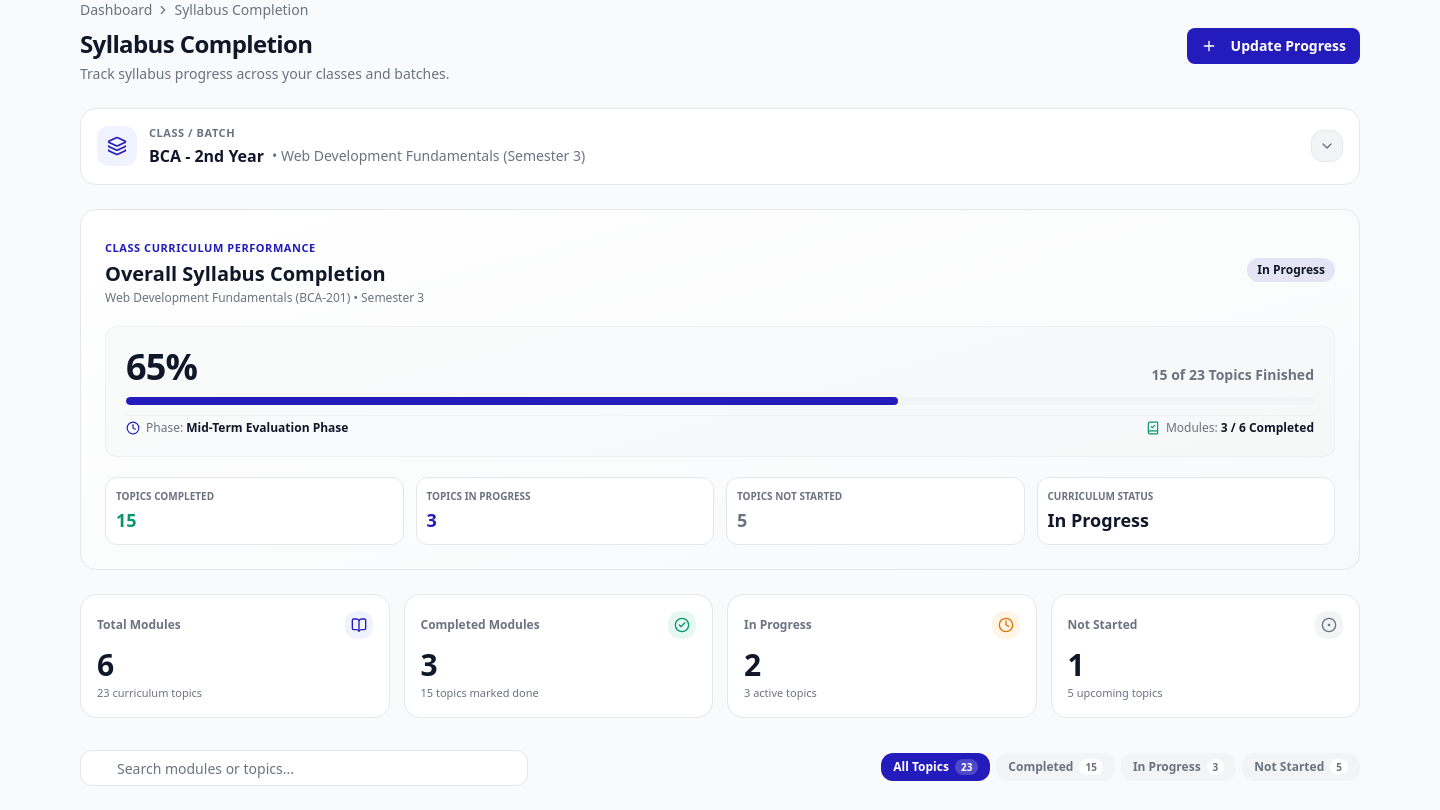
Test case: SyllabusCompletionPage › opens Update Progress modal when clicking the action button
The width and height of the screenshot is (1440, 810).
What coordinates should you click on to do the following:
click the button "Update Progress"
I would click on:
 (1273, 46)
Its box is [1187,28,1360,64].
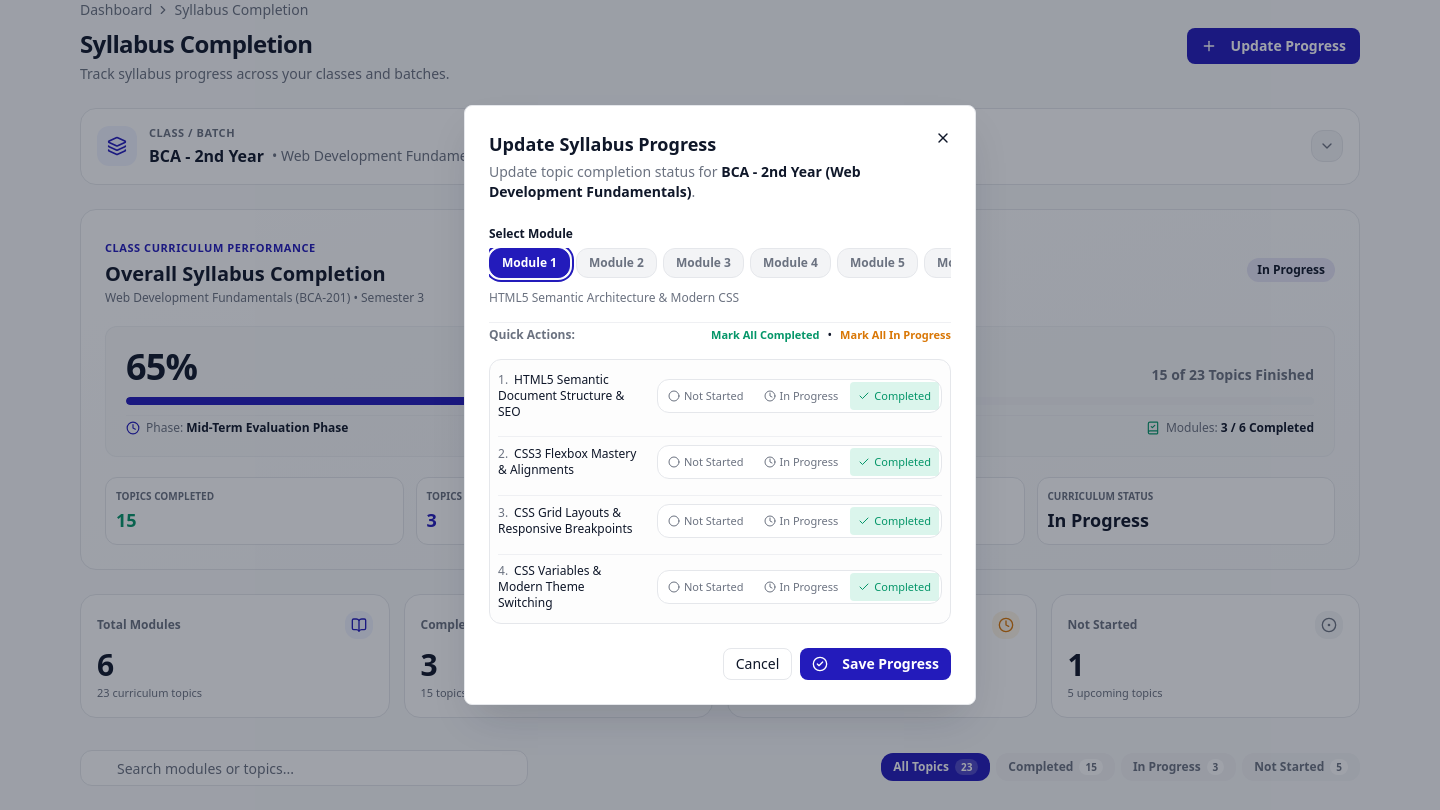
Now the dialog is shown, box [464,105,976,705]
Now the text "Save Progress" is shown, box [842,654,939,674]
